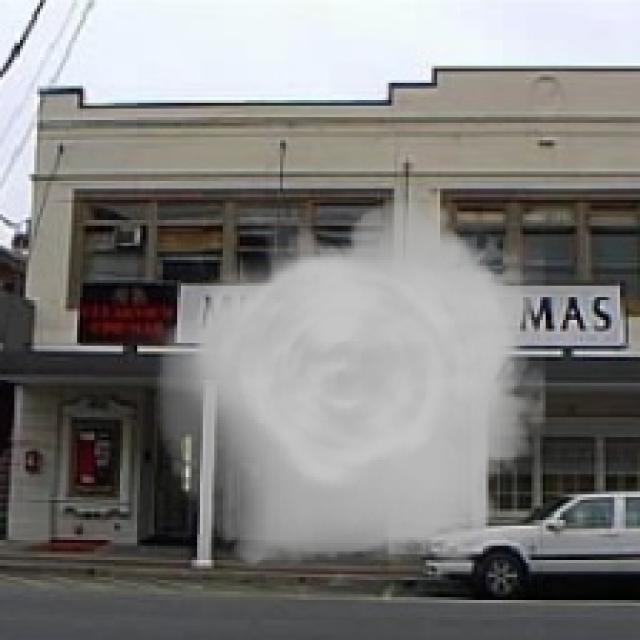smoke: (154, 185, 546, 586)
